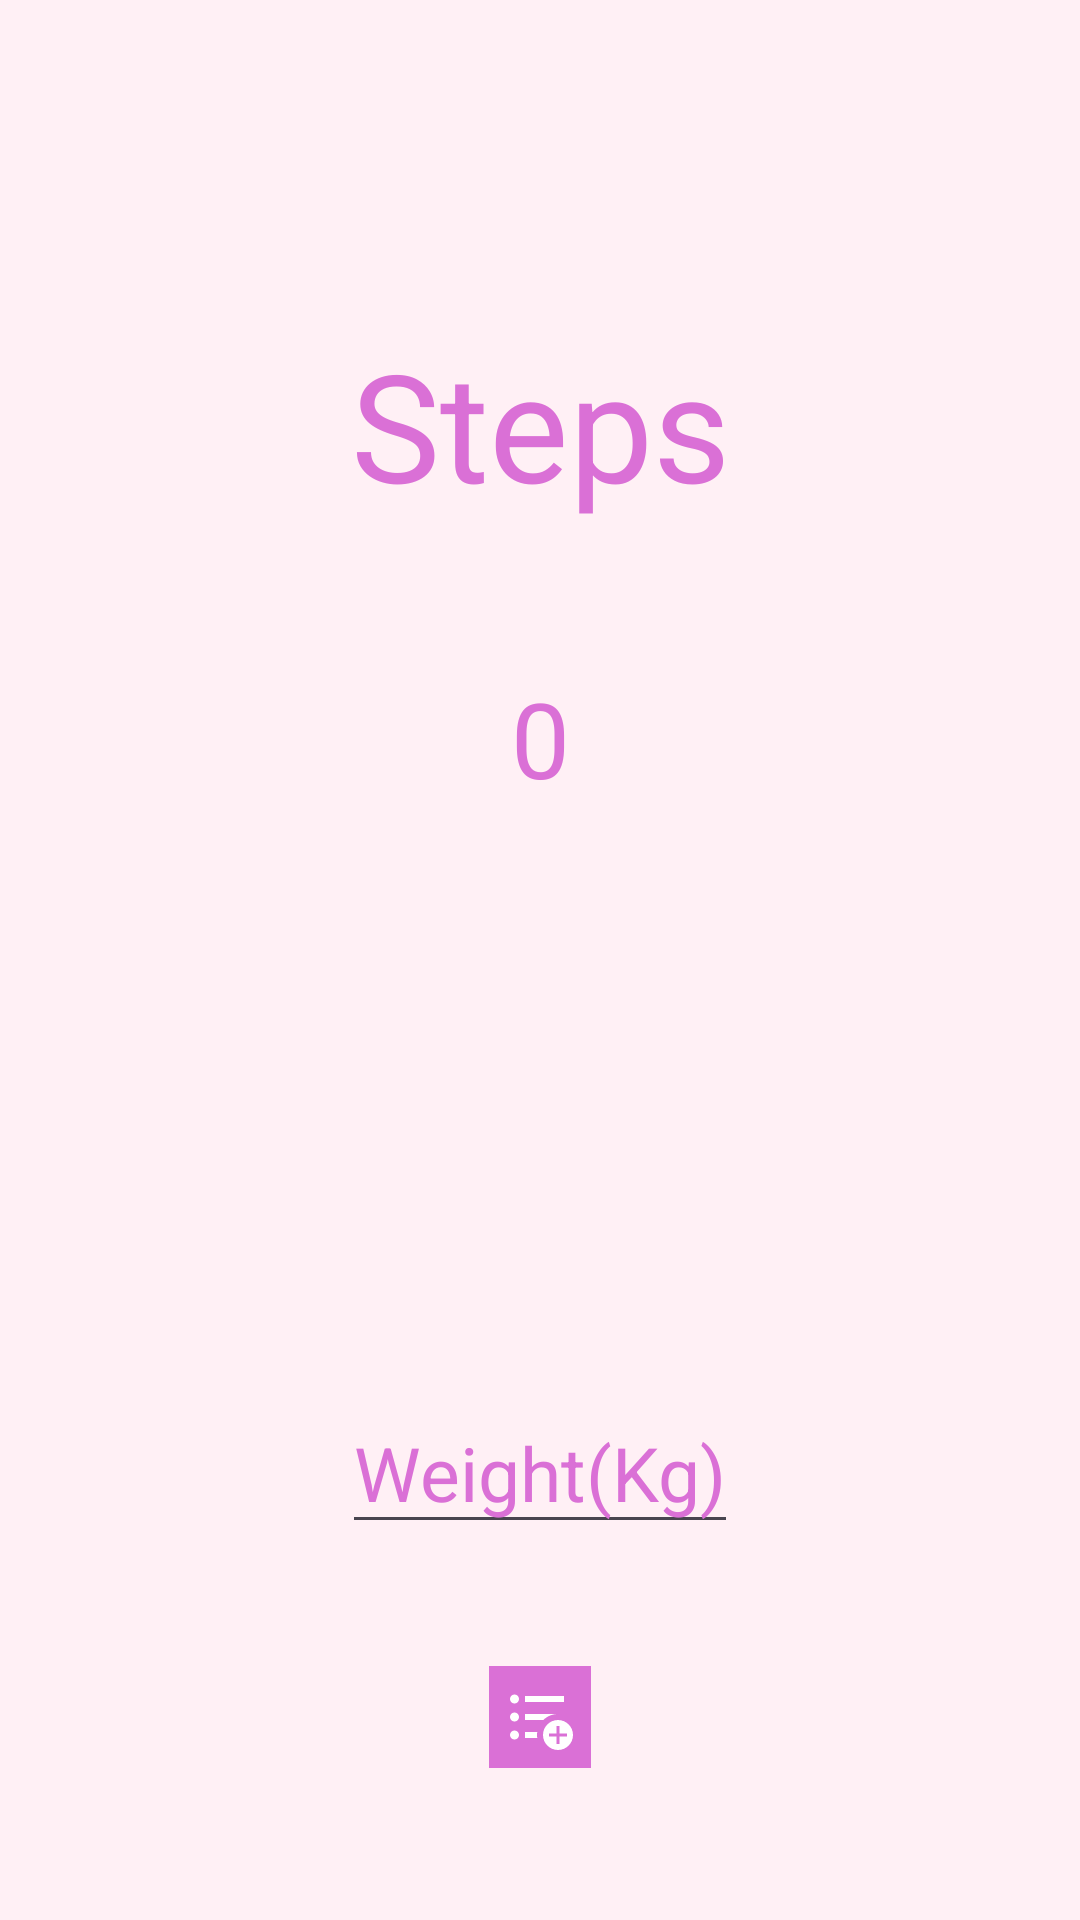

Where to tap for icons on this 1080px x 1920px app screen, as [x,y]:
save: [540,1717]
